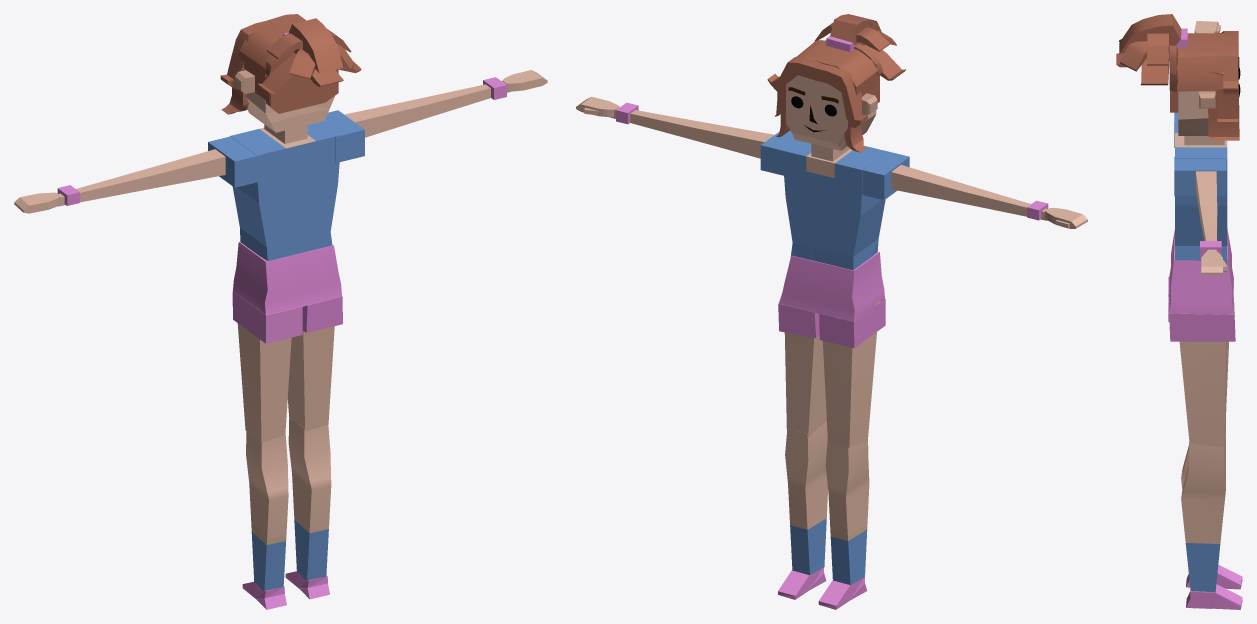
File: tallgirl.fbx
3 renders of one model, left to right at view 1: azimuth 30°, elevation 25°; view 2: azimuth 150°, elevation 25°; view 3: azimuth 270°, elevation 25°, orthographic. The views are drawn at different scales.
Parts seen in each view (by area): view 1: pCube120, pCube112, pCube130, pCube123, pCube114, pCube110, pCube127, pCube126, pCube132, pCube138, pCube82, pCube98 (+9 smaller); view 2: pCube120, pCube112, pCube123, pCube130, pCube114, pCube110, pCube82, pCube127, pCube126, pCube83, pCube132, pCube88 (+7 smaller); view 3: pCube112, pCube110, pCube130, pCube120, pCube83, pCube131, pCube137, pCube126, pCube82, pCube98, pCube121, pCube87 (+13 smaller).
Part boxes in pixels (x1,y1,x2,y2): pCube120: (230, 121, 340, 260); pCube112: (288, 419, 331, 581); pCube130: (233, 242, 341, 314); pCube123: (246, 431, 288, 591); pCube114: (237, 306, 291, 447); pCube110: (287, 326, 334, 431); pCube127: (58, 149, 225, 206); pCube126: (344, 81, 510, 137); pCube132: (232, 291, 302, 343); pCube138: (208, 136, 263, 187); pCube82: (246, 92, 334, 132); pCube98: (288, 18, 343, 73); pCube120: (783, 140, 887, 270); pCube112: (785, 422, 827, 575); pCube123: (825, 439, 869, 584); pCube130: (779, 251, 884, 321); pCube114: (822, 301, 879, 447); pCube110: (784, 332, 826, 437); pCube82: (786, 75, 876, 150); pCube127: (891, 165, 1047, 220); pCube126: (610, 107, 774, 158); pCube83: (796, 40, 877, 96); pCube132: (819, 298, 885, 348); pCube88: (815, 63, 867, 128); pCube112: (1181, 433, 1225, 592); pCube110: (1179, 305, 1226, 447); pCube130: (1169, 229, 1233, 314); pCube120: (1175, 119, 1227, 271); pCube83: (1177, 33, 1224, 91); pCube131: (1168, 296, 1235, 341); pCube137: (1174, 156, 1226, 196); pCube126: (1195, 171, 1217, 251); pCube82: (1178, 72, 1223, 135); pCube98: (1119, 14, 1181, 54); pCube121: (1186, 584, 1242, 609); pCube87: (1208, 72, 1239, 140).
Size of the model in its own units: 11.3 by 12.04 by 2.4.
